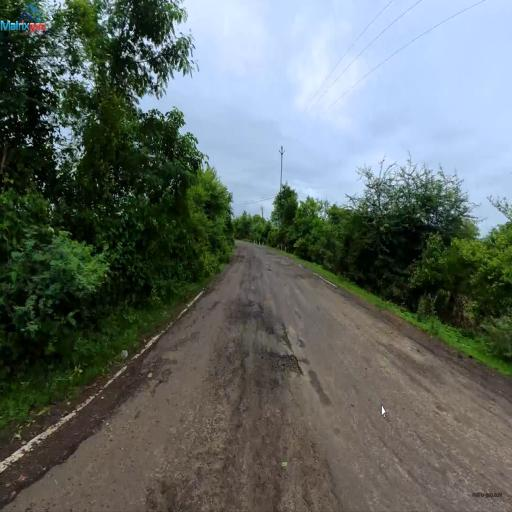ravelling: (215, 324, 325, 495)
